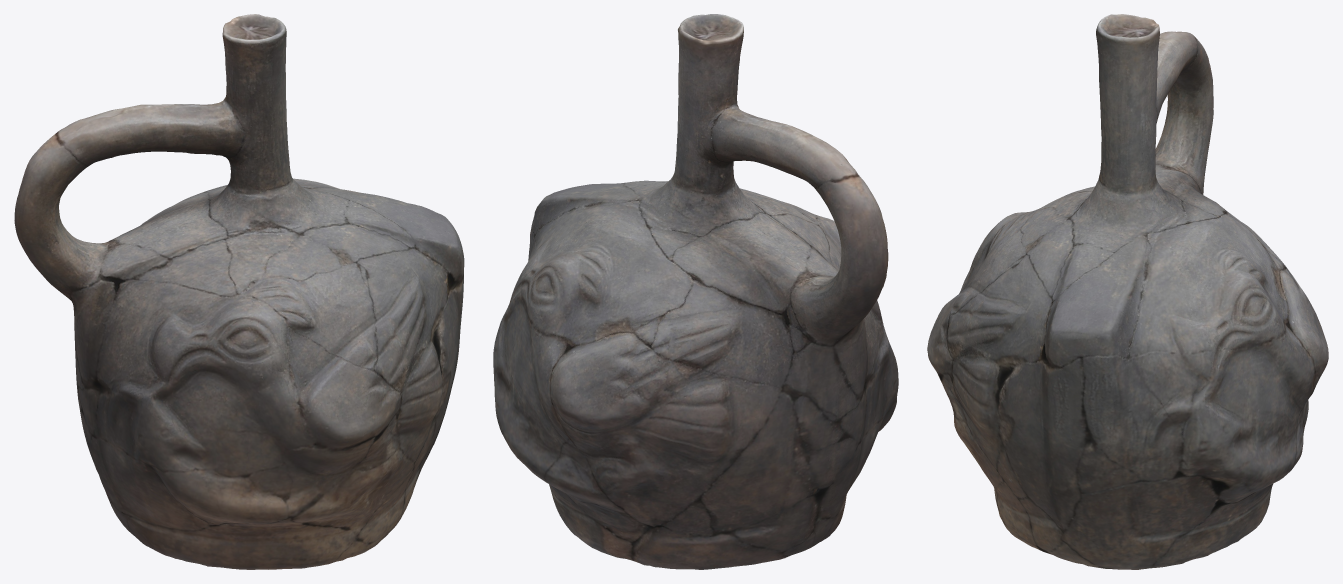
3 renders of one model, left to right at view 1: azimuth 30°, elevation 25°; view 2: azimuth 150°, elevation 25°; view 3: azimuth 270°, elevation 25°, orthographic. The views are drawn at different scales.
Parts seen in each view (by area): view 1: Object_2; view 2: Object_2; view 3: Object_2.
Boxes of the visible parts, x1,y1,x2,y2 form: Object_2: (14, 14, 464, 569); Object_2: (493, 14, 898, 569); Object_2: (927, 14, 1328, 569).
Size of the model in its own units: 2.85 by 3.52 by 2.57.
Materials: 1 (1 with a texture image).
